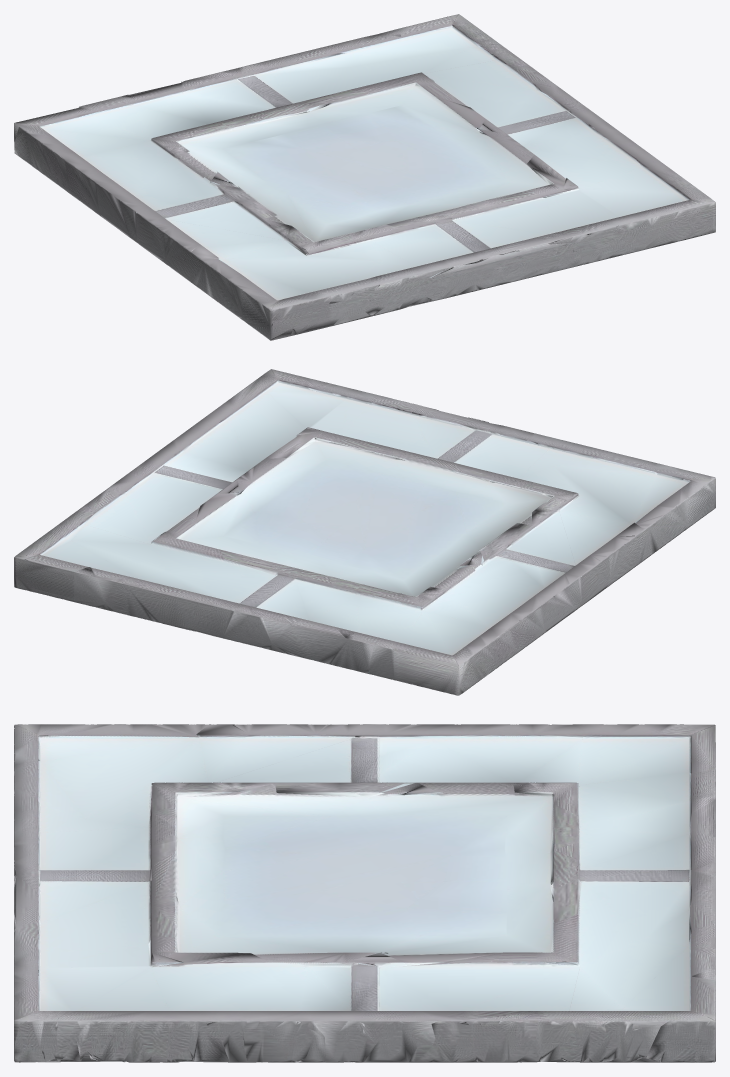
Rendered from ceiling-futuristic-lighting.glb.
The picture shows the model from 3 angles, top to bottom: view 1: azimuth 30°, elevation 25°; view 2: azimuth 150°, elevation 25°; view 3: azimuth 270°, elevation 25°; orthographic projection. The views are drawn at different scales.
Size of the model in its own units: 1.91 by 0.126 by 1.91.
1 material, 1 textured.
